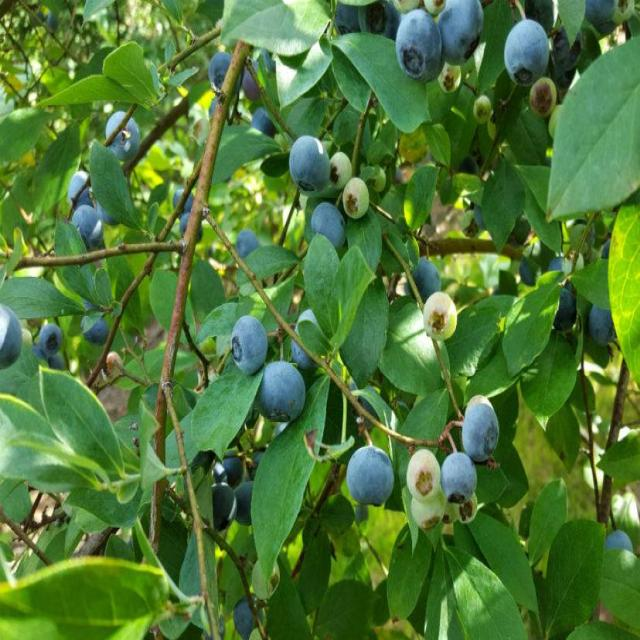BlueBerry - v1: (344, 438, 401, 518), (393, 5, 448, 85), (252, 355, 312, 428), (502, 11, 550, 88), (441, 0, 486, 72), (291, 300, 330, 380), (461, 389, 502, 464), (284, 131, 332, 194), (228, 306, 269, 378), (436, 446, 481, 509), (417, 284, 460, 347), (103, 98, 142, 164), (0, 284, 26, 382), (308, 197, 350, 257), (405, 446, 443, 506), (355, 0, 402, 48), (407, 488, 446, 544), (408, 250, 445, 306), (75, 302, 114, 354), (206, 479, 238, 541), (228, 581, 261, 640), (33, 311, 69, 364), (64, 165, 98, 220), (230, 473, 260, 535), (572, 0, 619, 39), (340, 170, 373, 225), (69, 202, 103, 254), (584, 297, 620, 344), (553, 283, 583, 339), (528, 70, 560, 122), (231, 222, 266, 268), (328, 1, 365, 44), (608, 518, 639, 568), (175, 202, 208, 248), (236, 59, 264, 112), (206, 45, 235, 94), (249, 104, 281, 146), (362, 156, 389, 202), (436, 55, 464, 98), (169, 177, 197, 218), (468, 85, 495, 127), (329, 146, 353, 191), (104, 343, 128, 385), (454, 488, 478, 528), (612, 0, 638, 31)
